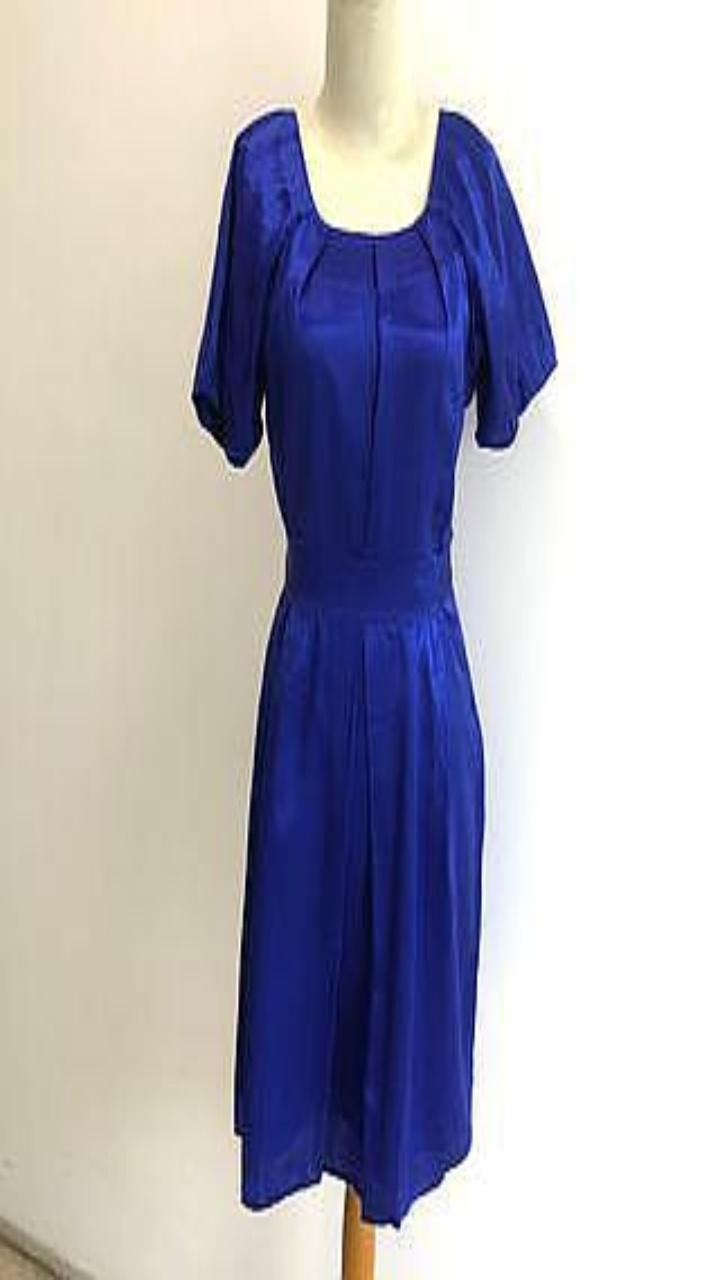Dresses: (192, 106, 555, 1226)
